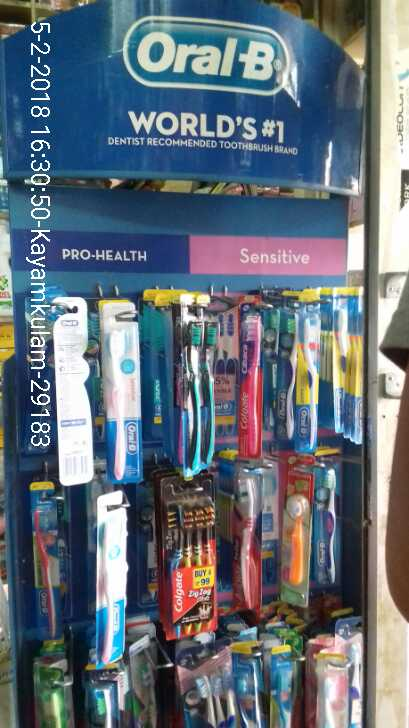oralb: (99, 302, 140, 483), (97, 488, 134, 666), (31, 478, 62, 640), (180, 297, 204, 471), (295, 291, 318, 452), (200, 298, 219, 466), (316, 462, 340, 583)
